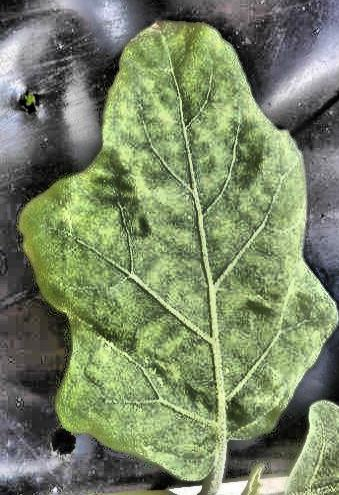HEALTHY: (1, 0, 339, 495)
